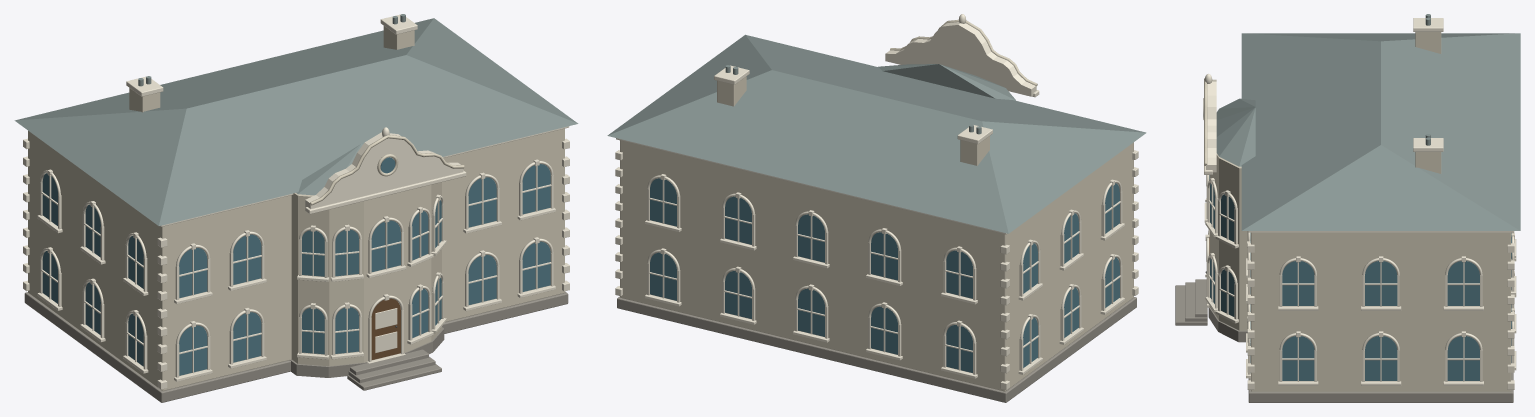
The model's file is large_baroque_mansion.glb.
The picture shows the model from 3 angles, left to right: view 1: azimuth 30°, elevation 25°; view 2: azimuth 150°, elevation 25°; view 3: azimuth 270°, elevation 25°; orthographic projection. The views are drawn at different scales.
Parts seen in each view (by area): view 1: Low main Baroque roof closed hipped roof, Wide Baroque residence closed exterior walls, Closed bowed central facade, Wide Baroque residence closed foundation, Raised shaped Baroque pediment, Central upper Baroque arch arched glazing, Tall Baroque arched window arched glazing.002, Tall Baroque arched window arched glazing.005, Tall Baroque arched window arched glazing, Tall Baroque arched window arched glazing.003, Tall Baroque arched window arched glazing.004, Tall Baroque arched window arched glazing.007 (+25 smaller); view 2: Wide Baroque residence closed exterior walls, Low main Baroque roof closed hipped roof, Wide Baroque residence closed foundation, Raised shaped Baroque pediment, Closed bowed central roof, Baroque rear arch arched glazing.003, Baroque rear arch arched glazing.004, Baroque rear arch arched glazing.005, Baroque rear arch arched glazing.001, Baroque rear arch arched glazing.006, Baroque rear arch arched glazing.009, Baroque rear arch arched glazing.002 (+13 smaller); view 3: Low main Baroque roof closed hipped roof, Wide Baroque residence closed exterior walls, Wide Baroque residence closed foundation, Closed bowed central facade, Closed bowed central roof, Baroque side arch arched glazing.002, Baroque side arch arched glazing.003, Baroque side arch arched glazing.004, Baroque side arch arched glazing.005, Baroque side arch arched glazing, Baroque side arch arched glazing.001, Raised shaped Baroque pediment (+12 smaller).
Part boxes in pixels (x1,y1,x2,y2): Low main Baroque roof closed hipped roof: (14,18,578,225); Wide Baroque residence closed exterior walls: (28,128,564,390); Closed bowed central facade: (291,182,441,366); Wide Baroque residence closed foundation: (24,291,568,402); Raised shaped Baroque pediment: (305,132,463,208); Central upper Baroque arch arched glazing: (371,220,400,271); Tall Baroque arched window arched glazing.002: (233,312,261,362); Tall Baroque arched window arched glazing.005: (468,177,496,227); Tall Baroque arched window arched glazing: (179,325,207,375); Tall Baroque arched window arched glazing.003: (233,234,261,284); Tall Baroque arched window arched glazing.004: (468,255,496,304); Tall Baroque arched window arched glazing.007: (522,164,550,214); Wide Baroque residence closed exterior walls: (620,140,1133,391); Low main Baroque roof closed hipped roof: (607,34,1146,233); Wide Baroque residence closed foundation: (617,296,1136,402); Raised shaped Baroque pediment: (885,22,1036,96); Closed bowed central roof: (878,64,1015,100); Baroque rear arch arched glazing.003: (871,232,897,280); Baroque rear arch arched glazing.004: (798,288,824,336); Baroque rear arch arched glazing.005: (798,214,824,262); Baroque rear arch arched glazing.001: (946,250,972,298); Baroque rear arch arched glazing.006: (725,271,751,318); Baroque rear arch arched glazing.009: (650,178,676,226); Baroque rear arch arched glazing.002: (871,306,897,354); Low main Baroque roof closed hipped roof: (1241,33,1520,230); Wide Baroque residence closed exterior walls: (1251,232,1510,391); Wide Baroque residence closed foundation: (1248,372,1513,402); Closed bowed central facade: (1209,153,1247,330); Closed bowed central roof: (1216,98,1255,166); Baroque side arch arched glazing.002: (1365,336,1397,380); Baroque side arch arched glazing.003: (1365,261,1397,305); Baroque side arch arched glazing.004: (1447,336,1479,380); Baroque side arch arched glazing.005: (1447,261,1479,305); Baroque side arch arched glazing: (1282,336,1314,380); Baroque side arch arched glazing.001: (1282,261,1314,305); Raised shaped Baroque pediment: (1206,79,1216,172).
Size of the model in its own units: 19.8 by 10.89 by 14.6.
